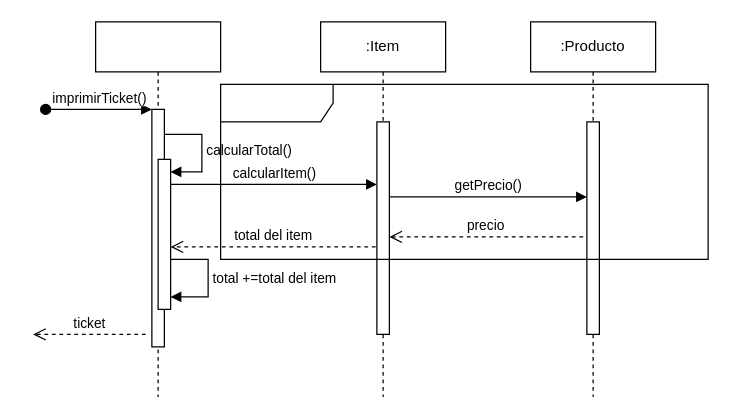
This 730x419 diagram has some shape labels left out. Here are the shapes that lost their labels. From the top down, the centre of each, then its label:
At (x=463, y=171): "Loop x=cantItems".
At (x=157, y=209): ":Ticket".
